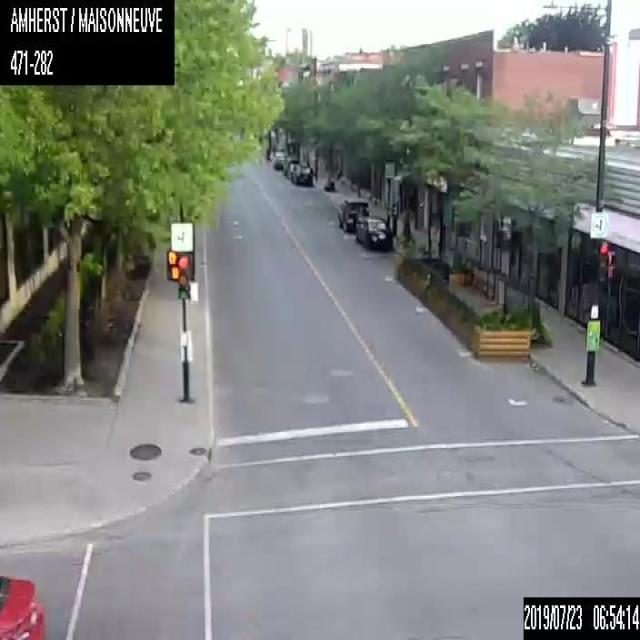vehicle: (0, 573, 44, 639), (354, 214, 392, 251), (338, 197, 369, 233), (290, 163, 312, 183), (283, 155, 297, 175)
